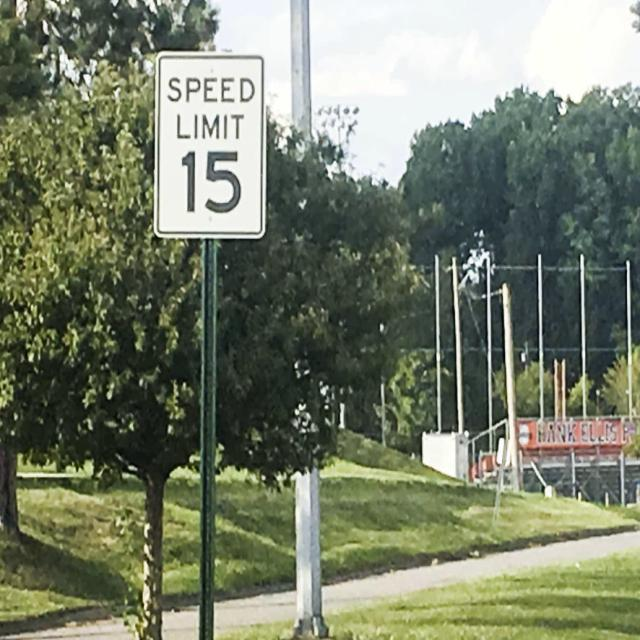speedLimit15: (157, 56, 263, 235)
